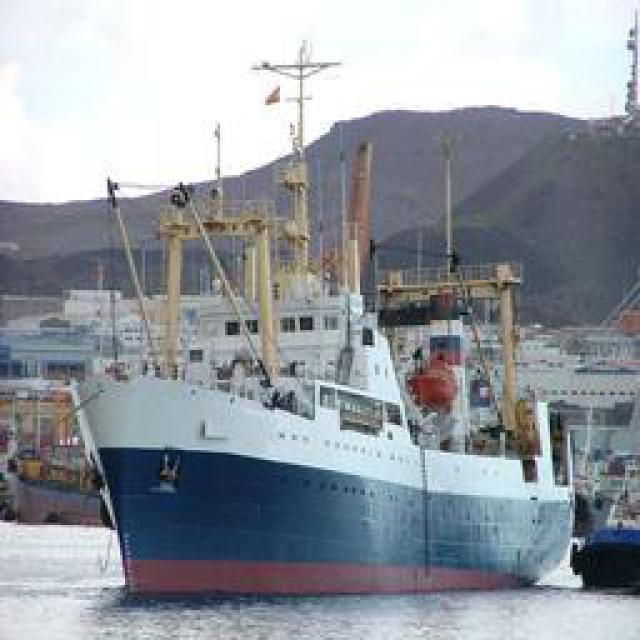Ship: (70, 84, 575, 607)
